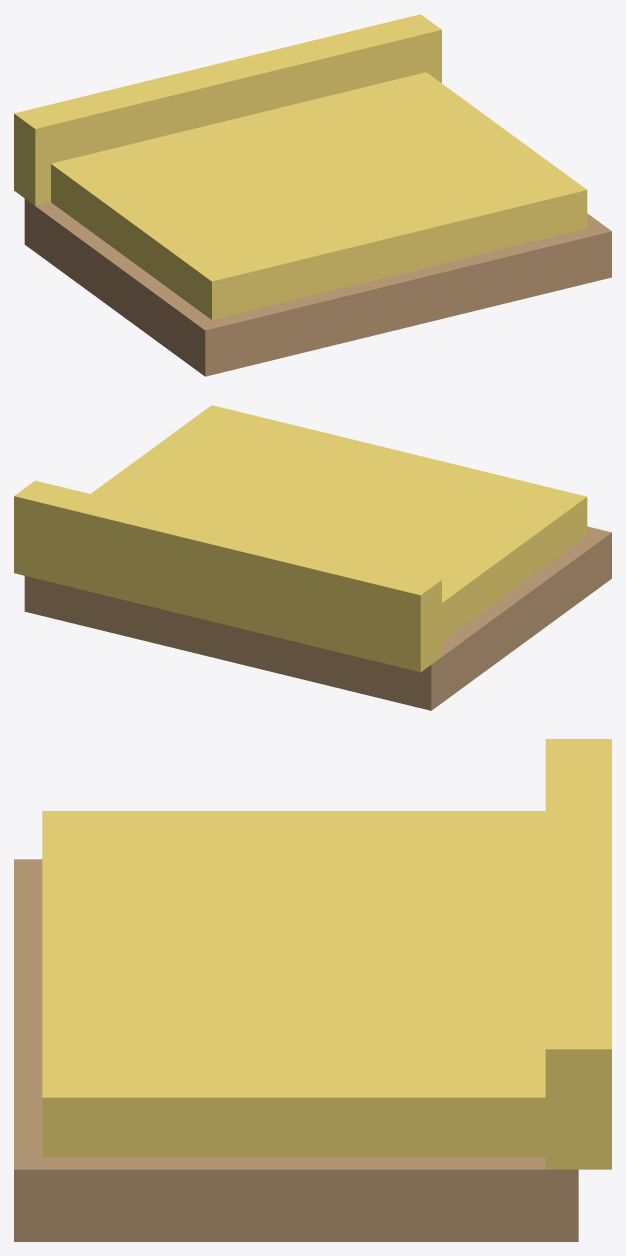
File: Prop_Pet_AMF_Bed_V18.glb
The picture shows the model from 3 angles, top to bottom: view 1: azimuth 30°, elevation 25°; view 2: azimuth 150°, elevation 25°; view 3: azimuth 270°, elevation 25°; orthographic projection. The views are drawn at different scales.
Parts seen in each view (by area): view 1: Prop_Pet_AMF_Bed_V18; view 2: Prop_Pet_AMF_Bed_V18; view 3: Prop_Pet_AMF_Bed_V18.
Boxes of the visible parts, x1,y1,x2,y2 form: Prop_Pet_AMF_Bed_V18: (14,14,611,376); Prop_Pet_AMF_Bed_V18: (14,405,611,710); Prop_Pet_AMF_Bed_V18: (14,739,611,1241).
Bounding box in the file's own units: 1.11 × 0.32 × 0.9.
